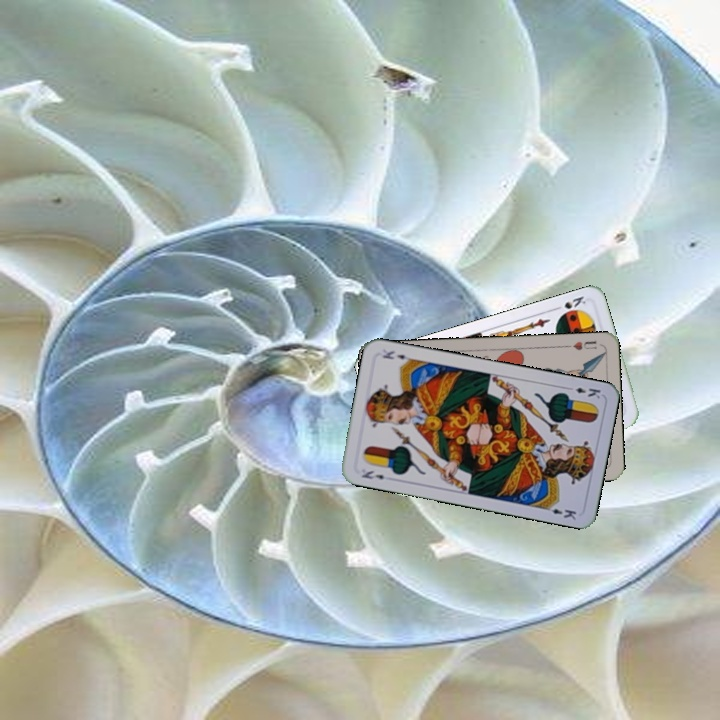EK: (563, 383, 603, 401), (358, 466, 387, 482)
HU: (562, 337, 599, 353)
SK: (549, 292, 588, 313)
